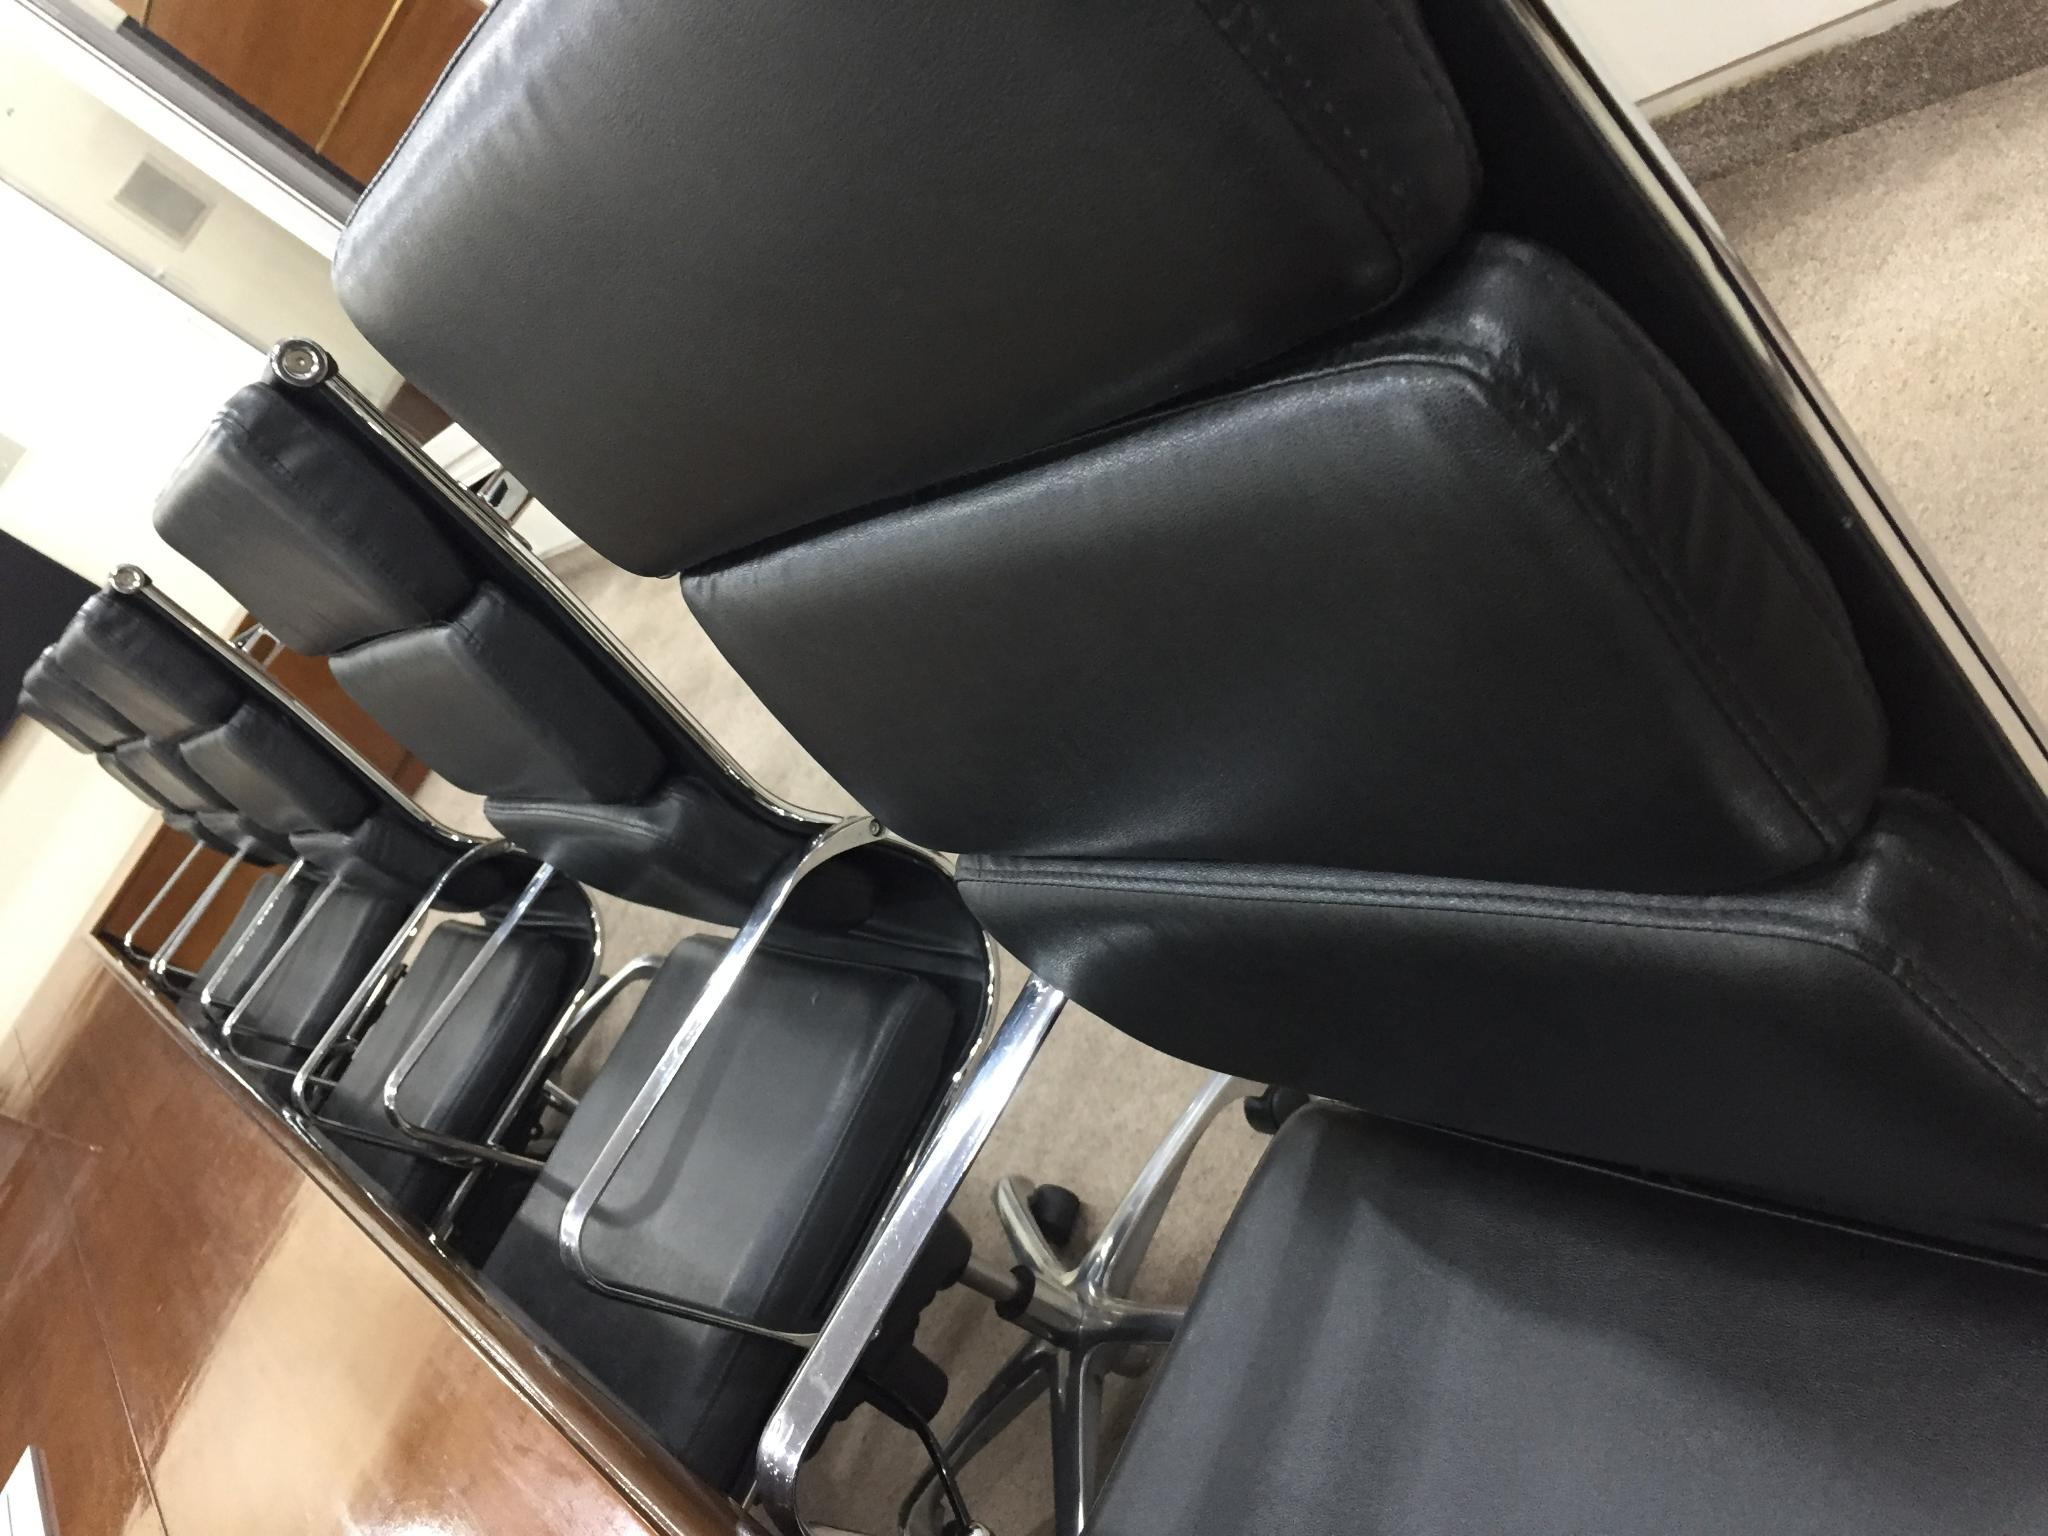chair: (326, 0, 2046, 1534), (192, 371, 1121, 1536), (5, 571, 358, 991)
